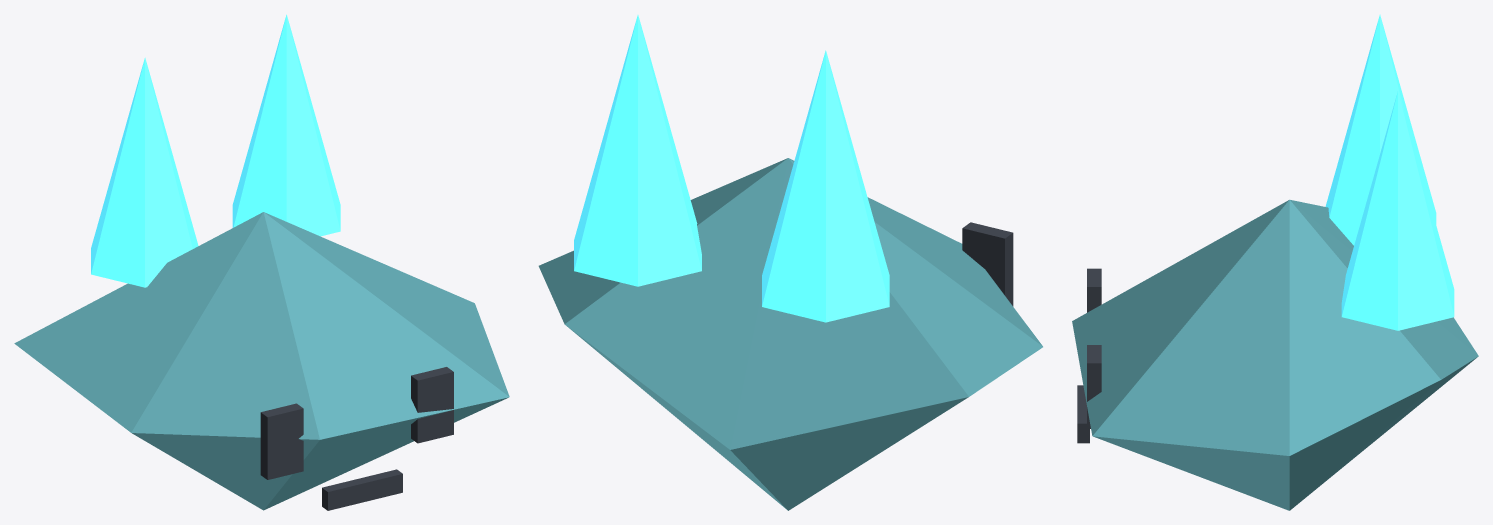
Rendered from Crystal_Slime.glb.
The picture shows the model from 3 angles, left to right: view 1: azimuth 30°, elevation 25°; view 2: azimuth 150°, elevation 25°; view 3: azimuth 270°, elevation 25°; orthographic projection. The views are drawn at different scales.
Visible parts, largest first — view 1: Body; view 2: Body; view 3: Body.
Boxes of the visible parts, x1,y1,x2,y2 form: Body: (14, 14, 509, 510); Body: (538, 15, 1042, 510); Body: (1072, 14, 1478, 510).
Bounding box in the file's own units: 1.37 × 1.4 × 1.13.
